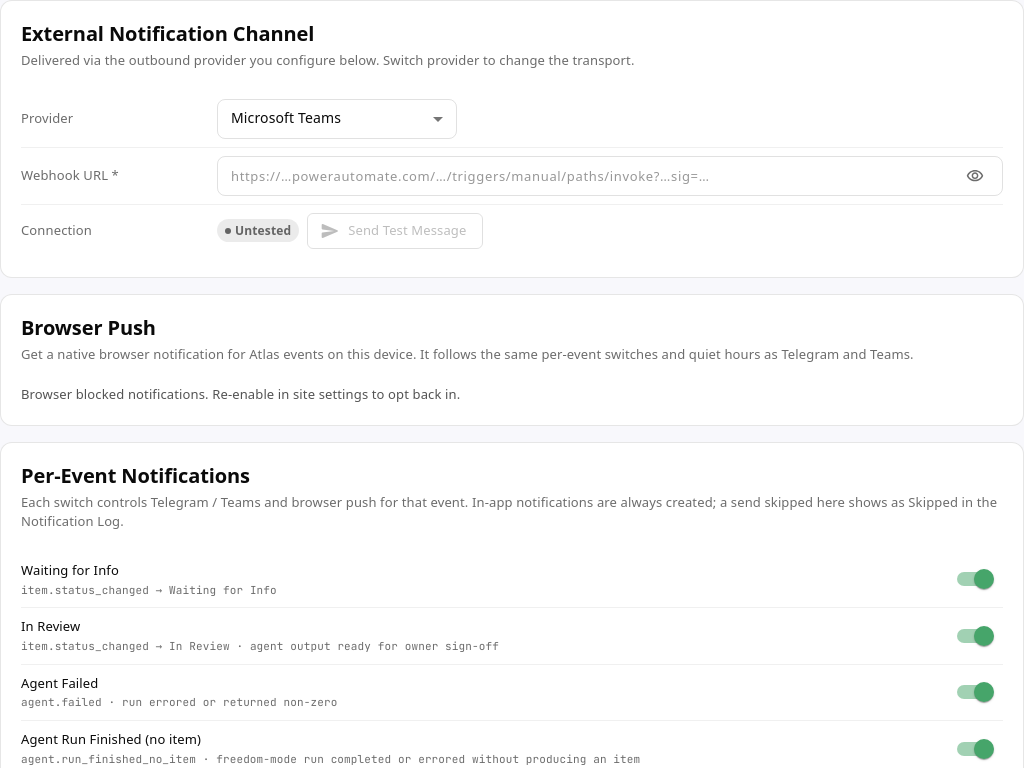
NotificationsTab › toggles the show-webhook visibility button (setShowWebhook branch)
The width and height of the screenshot is (1024, 768).
Check: the password field with placeholder "powerautomate" is shown, box [217,156,953,196]
What coordinates should you click on to do the following:
click the button named "reveal webhook url"
I would click on:
 (975, 176)
Its box is [961,162,989,190].
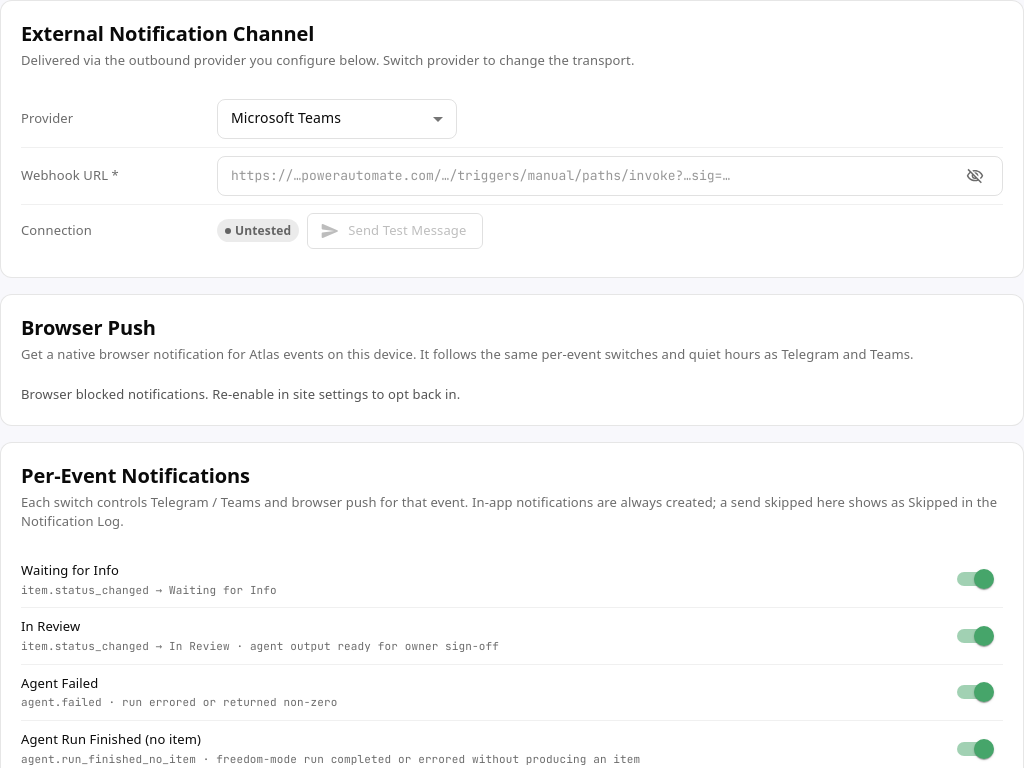
Check: the button named "hide webhook url" is shown
What coordinates should you click on to do the following:
click the button named "hide webhook url"
I would click on:
 (975, 176)
Its box is [961,162,989,190].
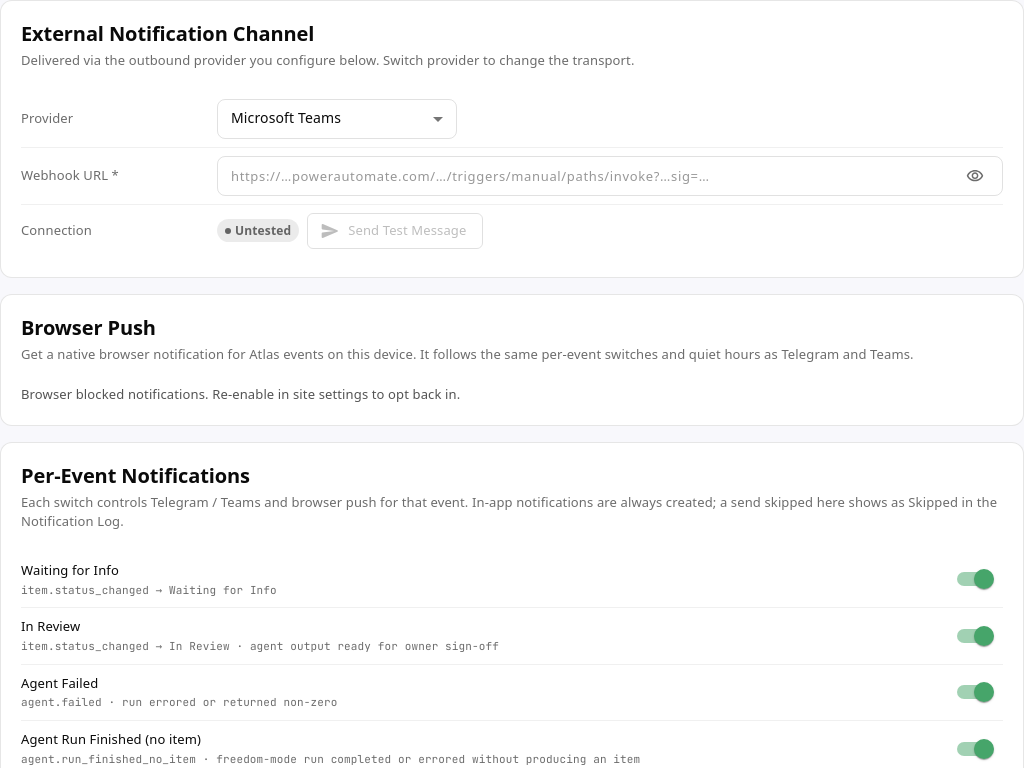
Check: the button named "reveal webhook url" is shown, box [961,162,989,190]
